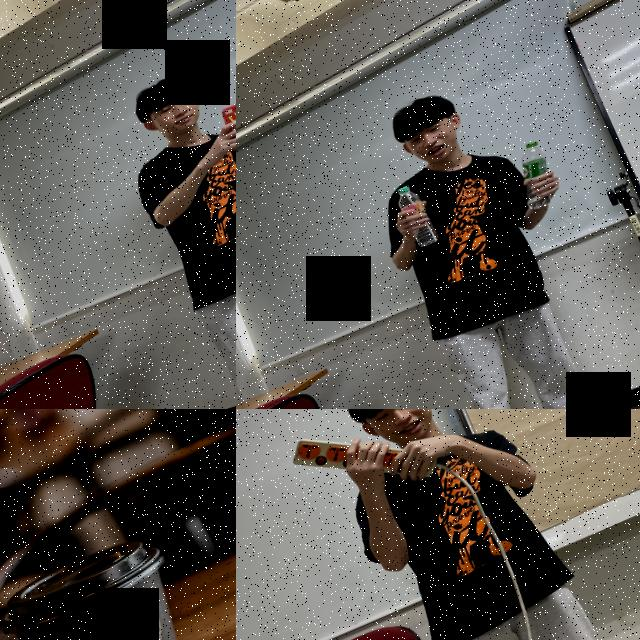bottle: (504, 142, 560, 212), (390, 180, 439, 250)
cup: (0, 528, 221, 640)
